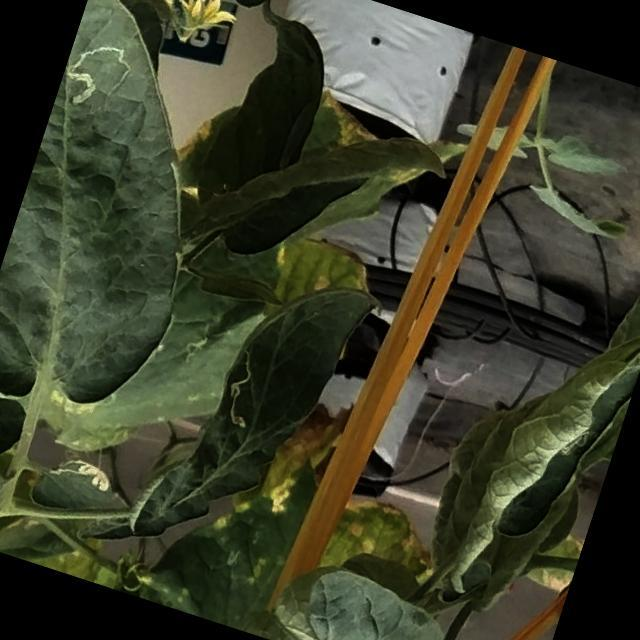Tomato target spot leaf: (0, 0, 263, 439), (131, 240, 390, 586), (28, 448, 138, 532)
